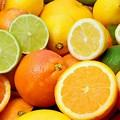orange: (54, 65, 120, 120), (6, 49, 63, 109), (65, 18, 114, 61), (7, 14, 46, 48)
